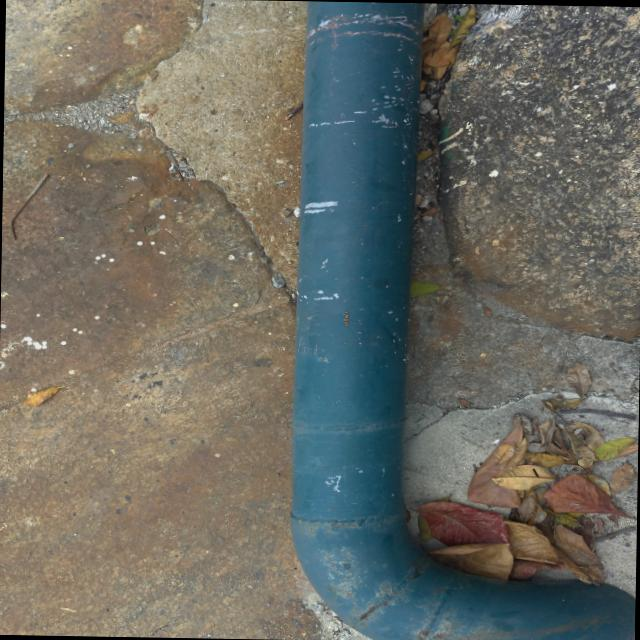gas: (291, 0, 424, 584), (386, 561, 635, 640)
